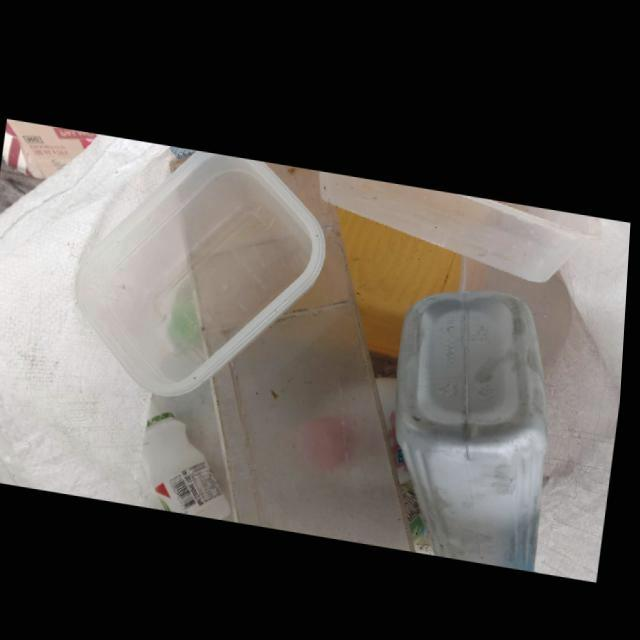plastic_container: (79, 146, 328, 393), (399, 279, 552, 562), (320, 164, 608, 272), (146, 409, 236, 515)
